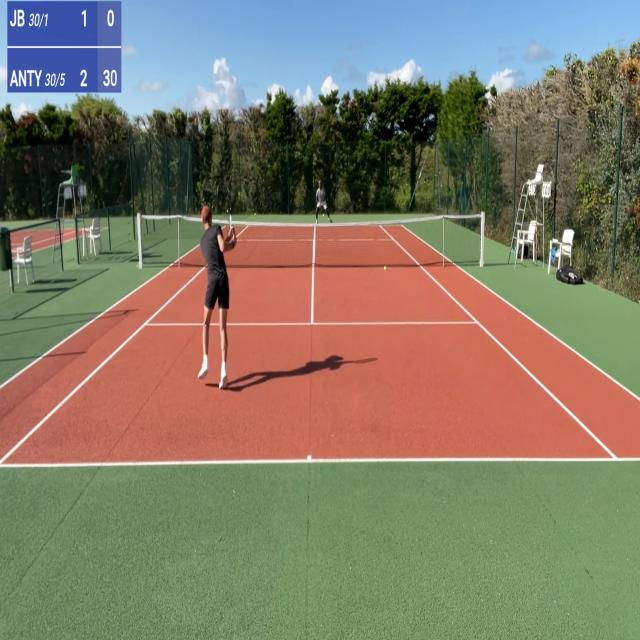ball: (383, 265, 387, 272), (254, 212, 256, 216)
